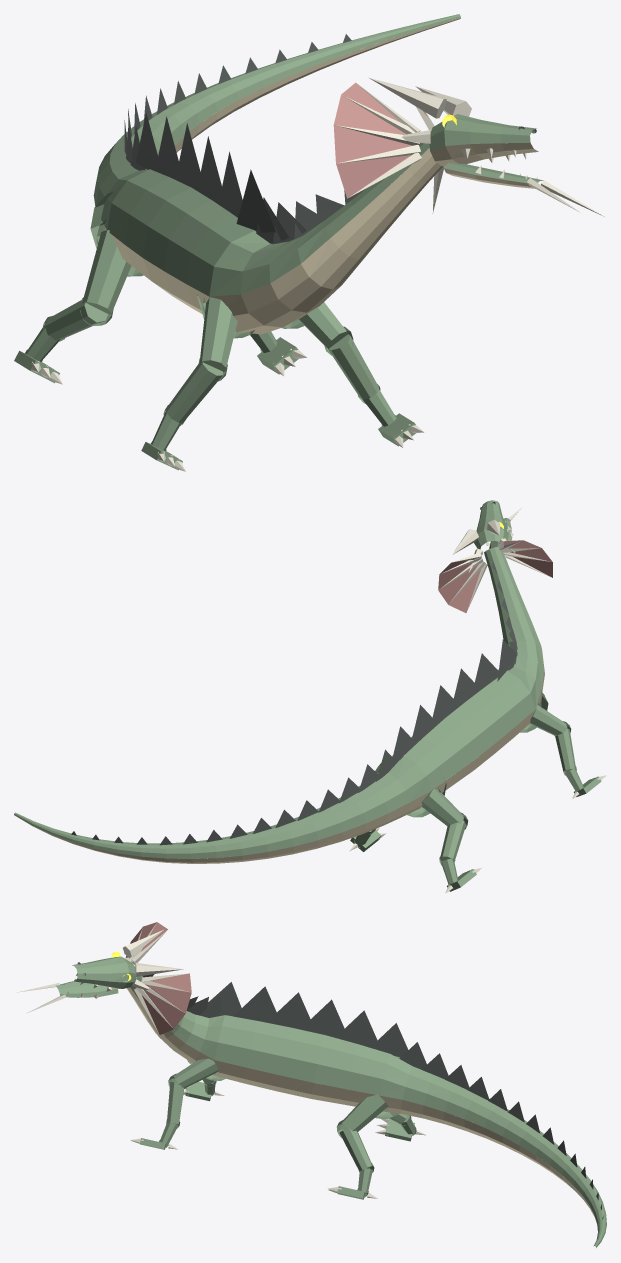
File: EasternDragon.glb
The picture shows the model from 3 angles, top to bottom: view 1: azimuth 30°, elevation 25°; view 2: azimuth 150°, elevation 25°; view 3: azimuth 270°, elevation 25°; orthographic projection. The views are drawn at different scales.
Visible parts, largest first — view 1: eastern-dragon-flying; view 2: eastern-dragon-flying; view 3: eastern-dragon-flying.
Boxes of the visible parts, left/top/right/bottom form: eastern-dragon-flying: left=14, top=14, right=605, bottom=471; eastern-dragon-flying: left=14, top=500, right=606, bottom=893; eastern-dragon-flying: left=16, top=922, right=606, bottom=1247.
Bounding box in the file's own units: 4.96 × 3.12 × 6.63.
